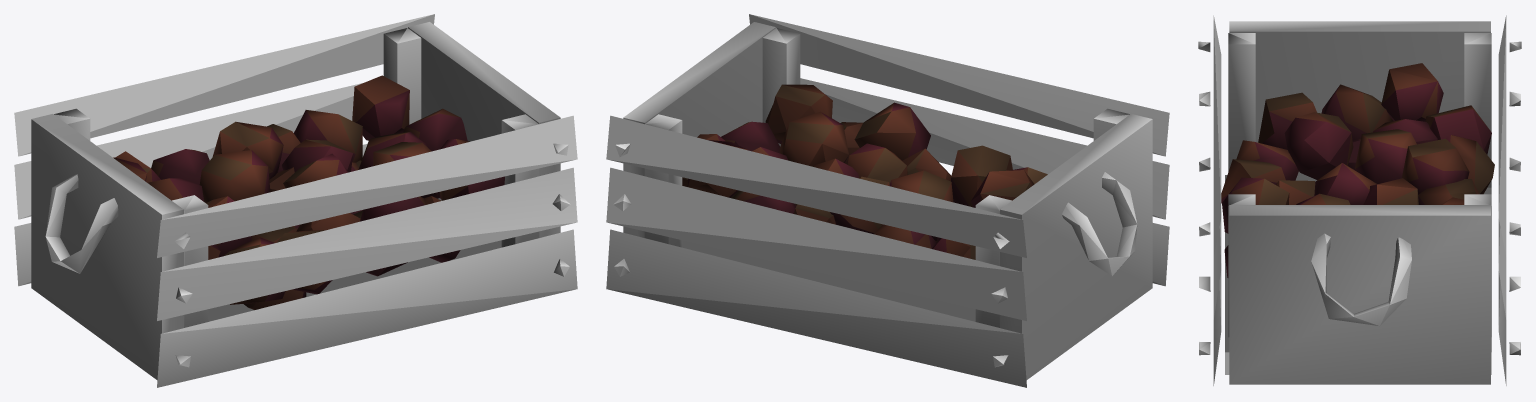
The model's file is pq_cageot_pommes.glb.
The picture shows the model from 3 angles, left to right: view 1: azimuth 30°, elevation 25°; view 2: azimuth 150°, elevation 25°; view 3: azimuth 270°, elevation 25°; orthographic projection.
Visible parts, largest first — view 1: FarmCrate_Apple; view 2: FarmCrate_Apple; view 3: FarmCrate_Apple.
Part boxes in pixels (x1,y1,x2,y2): FarmCrate_Apple: (14,14,577,387); FarmCrate_Apple: (606,14,1169,387); FarmCrate_Apple: (1198,15,1521,385).
Size of the model in its own units: 0.5315 by 0.1828 by 0.3123.
